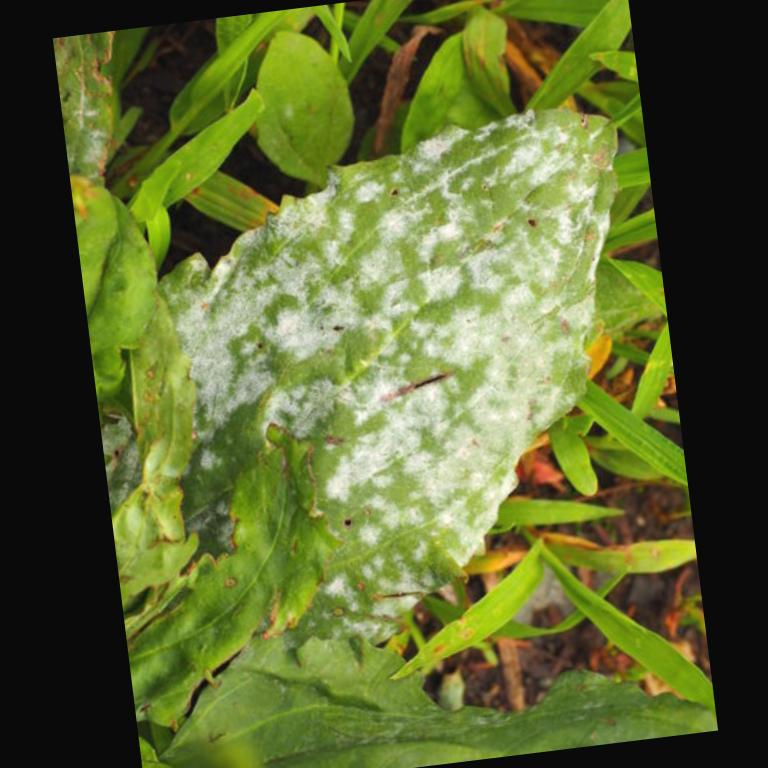powdery-mildew: (336, 163, 564, 430), (190, 252, 337, 410), (350, 434, 472, 556)
